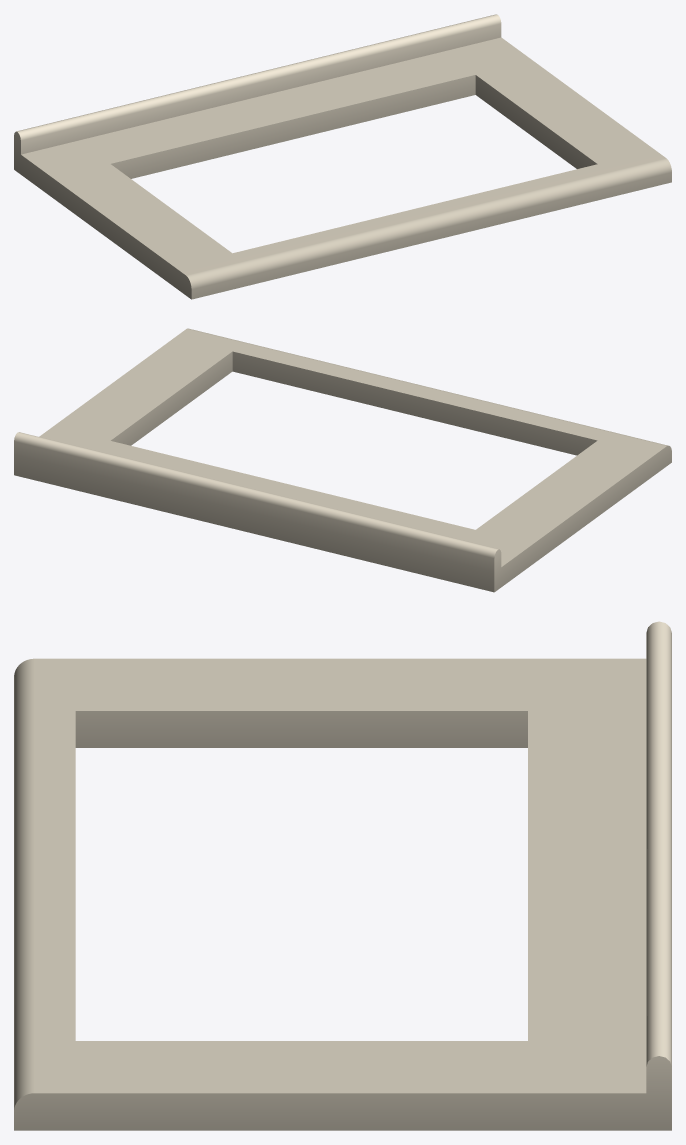
Rendered from KitTop_Sink_10.glb.
3 renders of one model, top to bottom at view 1: azimuth 30°, elevation 25°; view 2: azimuth 150°, elevation 25°; view 3: azimuth 270°, elevation 25°, orthographic. The views are drawn at different scales.
Parts seen in each view (by area): view 1: SM_KitTop_Sink_10; view 2: SM_KitTop_Sink_10; view 3: SM_KitTop_Sink_10.
Boxes of the visible parts, x1,y1,x2,y2 form: SM_KitTop_Sink_10: (14, 14, 671, 299); SM_KitTop_Sink_10: (14, 328, 671, 592); SM_KitTop_Sink_10: (14, 621, 671, 1130).
Size of the model in its own units: 1 by 0.08 by 0.64.
1 material, 1 textured.
